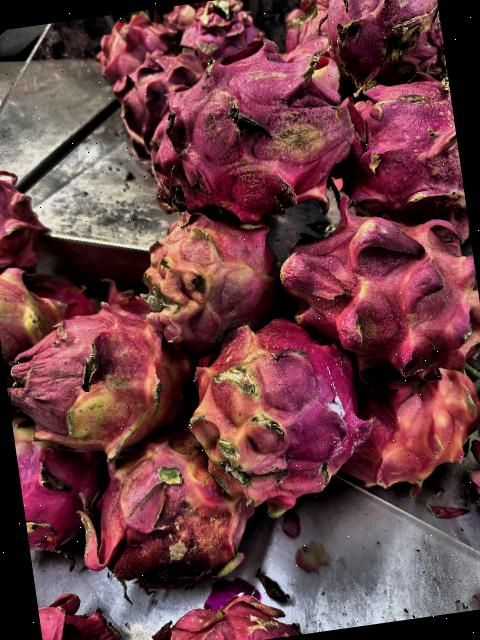buah-naga-belum-matang: (169, 303, 376, 497), (4, 294, 198, 450), (75, 441, 260, 594), (134, 212, 284, 334), (344, 354, 480, 485), (0, 265, 66, 344)
buah-naga-matang: (274, 189, 480, 383), (146, 54, 365, 202), (341, 62, 469, 242), (322, 0, 447, 86), (110, 49, 209, 148), (0, 153, 58, 276), (87, 7, 179, 75), (179, 0, 264, 63), (275, 0, 330, 40)
